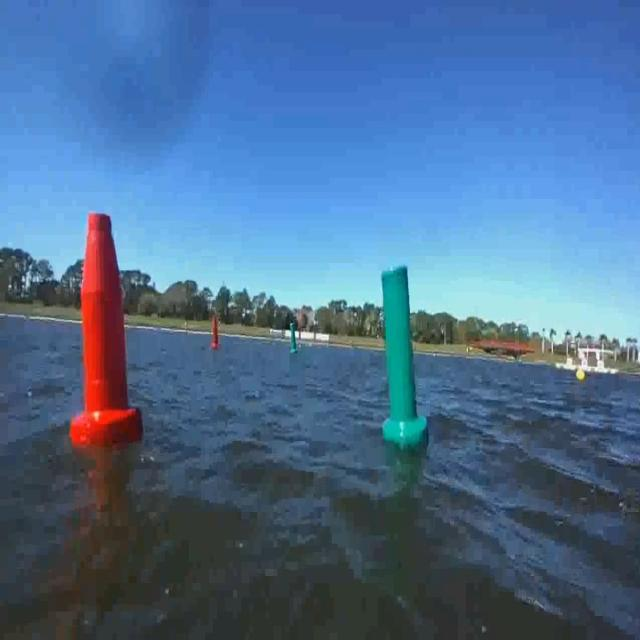green-column-buoy: (377, 260, 425, 448), (289, 323, 298, 355)
red-column-buoy: (69, 213, 140, 449), (211, 319, 221, 352)
yellow-buoy: (576, 369, 585, 384)
